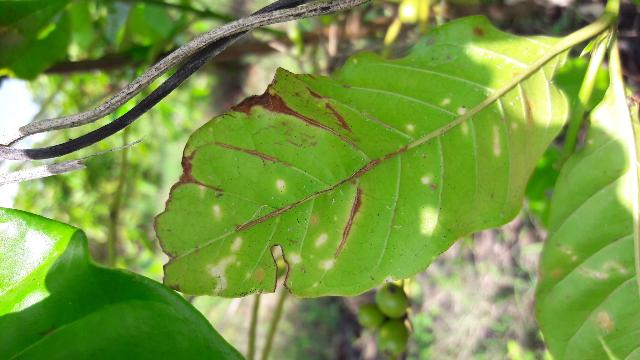red_spider_mite: (157, 16, 579, 301)
